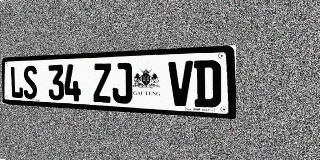3: (48, 65, 64, 101)
4: (64, 64, 81, 101)
D: (194, 60, 221, 108)
J: (112, 62, 132, 104)
L: (10, 66, 23, 99)
S: (23, 65, 37, 99)
V: (168, 61, 193, 107)
Z: (93, 63, 112, 103)
